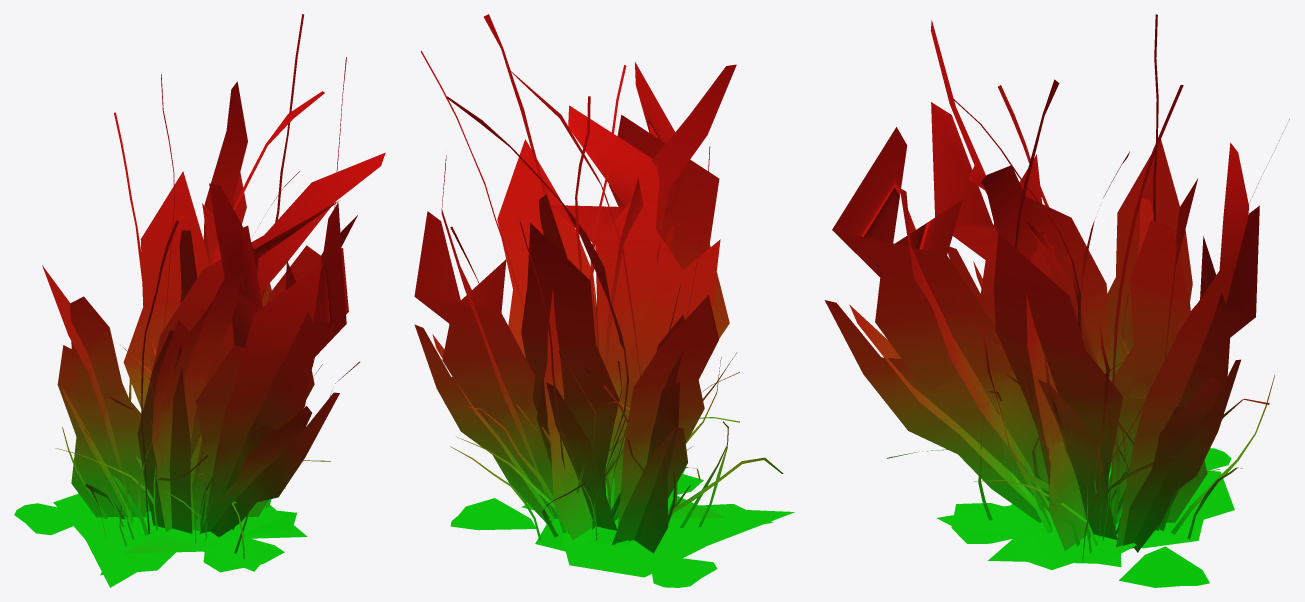
Rendered from uddmcgbia_Var6_LOD0.fbx.
3 renders of one model, left to right at view 1: azimuth 30°, elevation 25°; view 2: azimuth 150°, elevation 25°; view 3: azimuth 270°, elevation 25°, orthographic. The views are drawn at different scales.
Parts seen in each view (by area): view 1: _4888_Var6_LOD0; view 2: _4888_Var6_LOD0; view 3: _4888_Var6_LOD0.
Part boxes in pixels (x1,y1,x2,y2): _4888_Var6_LOD0: (14,14,385,587); _4888_Var6_LOD0: (414,14,794,587); _4888_Var6_LOD0: (824,14,1289,587).
Bounding box in the file's own units: 17.68 × 27.04 × 21.28.
